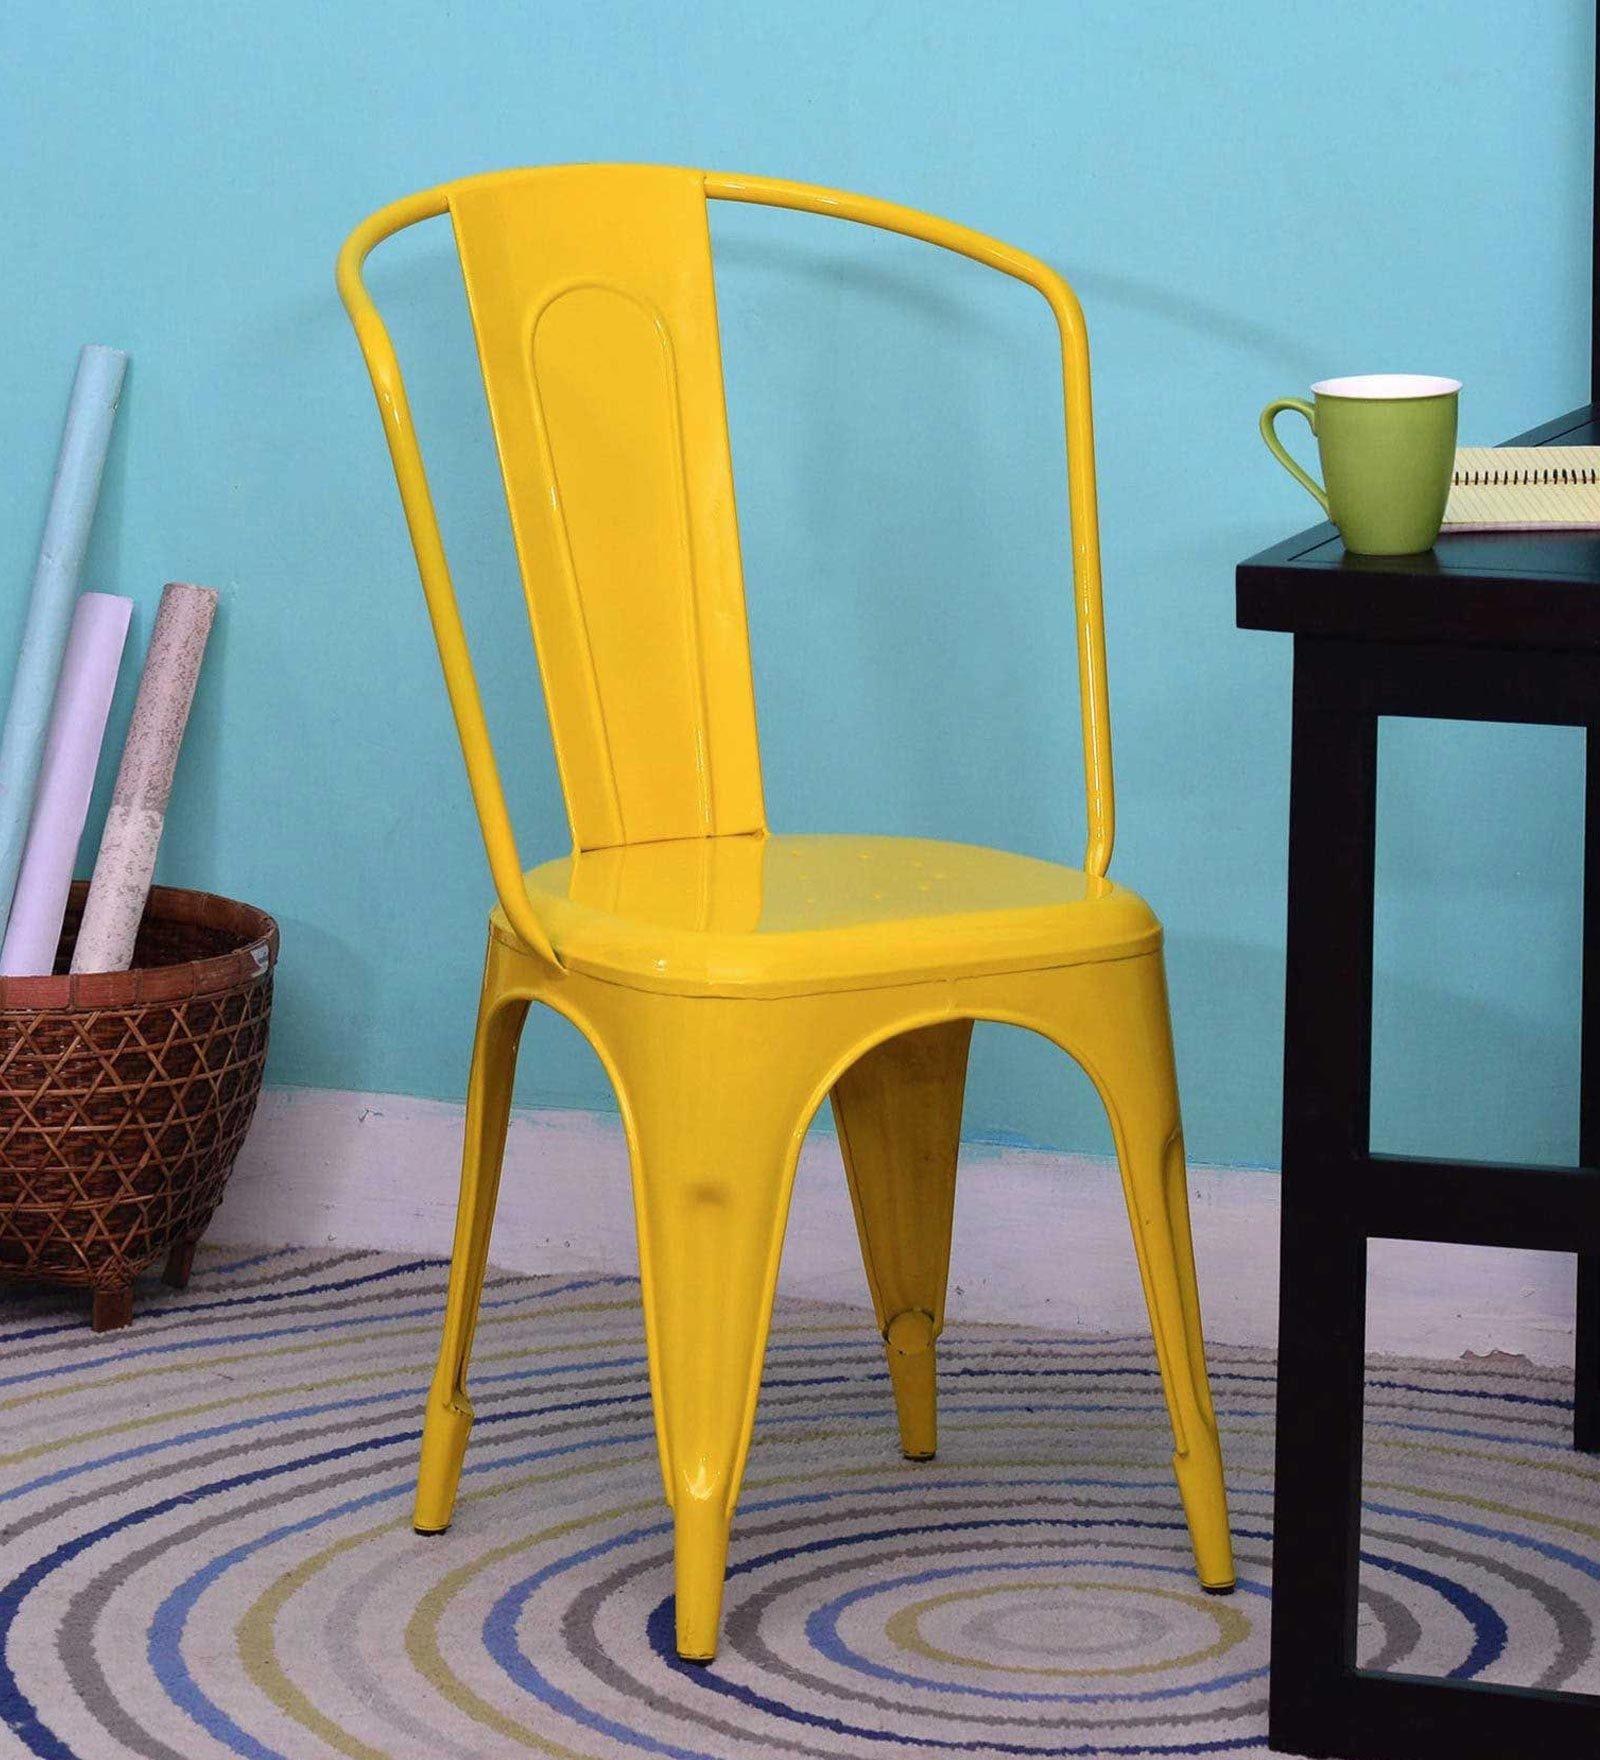Ekati Metal Chair in Yellow Color by Bohemiana: (267, 133, 1270, 1693)
